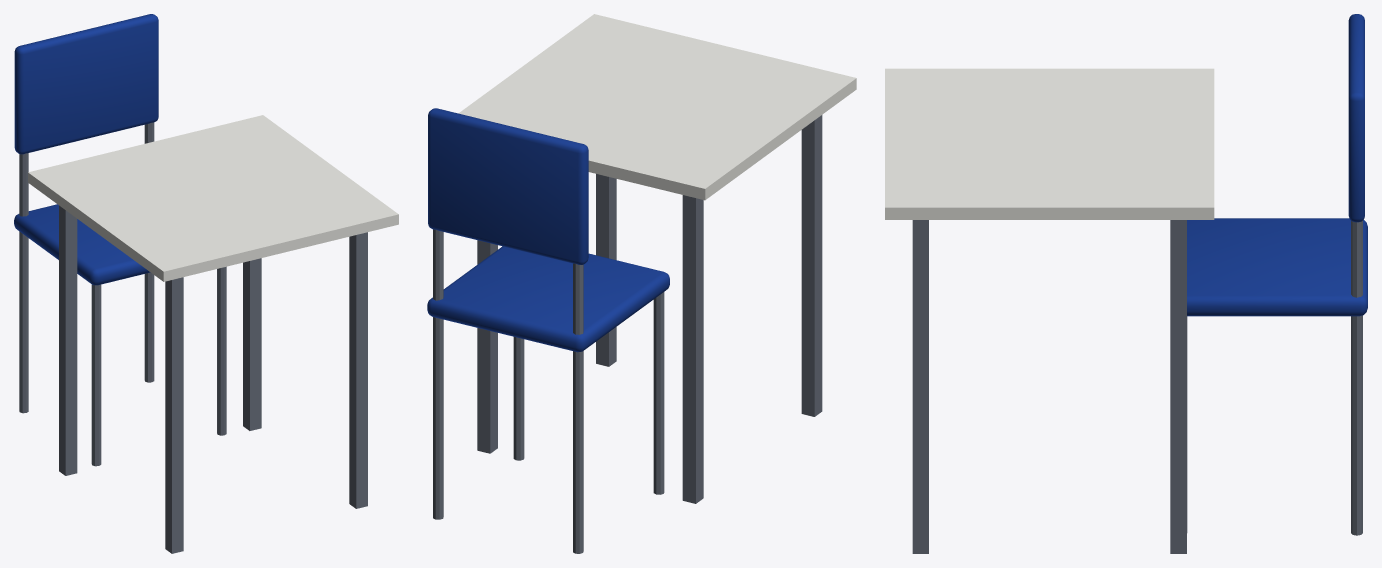
Rendered from school.desk.exam.glb.
3 views of the same model, side by side, from view 1: azimuth 30°, elevation 25°; view 2: azimuth 150°, elevation 25°; view 3: azimuth 270°, elevation 25° (orthographic). The views are drawn at different scales.
Parts seen in each view (by area): view 1: table__laminate_white, chairs__plastic_blue, table__steel_painted, chairs__steel_painted; view 2: table__laminate_white, chairs__plastic_blue, table__steel_painted, chairs__steel_painted; view 3: table__laminate_white, chairs__plastic_blue, table__steel_painted, chairs__steel_painted.
Part boxes in pixels (x1,y1,x2,y2): table__laminate_white: [28, 115, 398, 281]; chairs__plastic_blue: [14, 14, 158, 285]; table__steel_painted: [59, 205, 367, 553]; chairs__steel_painted: [19, 122, 226, 466]; table__laminate_white: [458, 14, 856, 200]; chairs__plastic_blue: [427, 108, 669, 352]; table__steel_painted: [477, 115, 822, 503]; chairs__steel_painted: [433, 229, 664, 553]; table__laminate_white: [885, 68, 1214, 219]; chairs__plastic_blue: [1187, 14, 1367, 316]; table__steel_painted: [912, 220, 1186, 553]; chairs__steel_painted: [1187, 220, 1362, 535].
Bounding box in the file's own units: 0.6 × 0.89 × 0.88.
